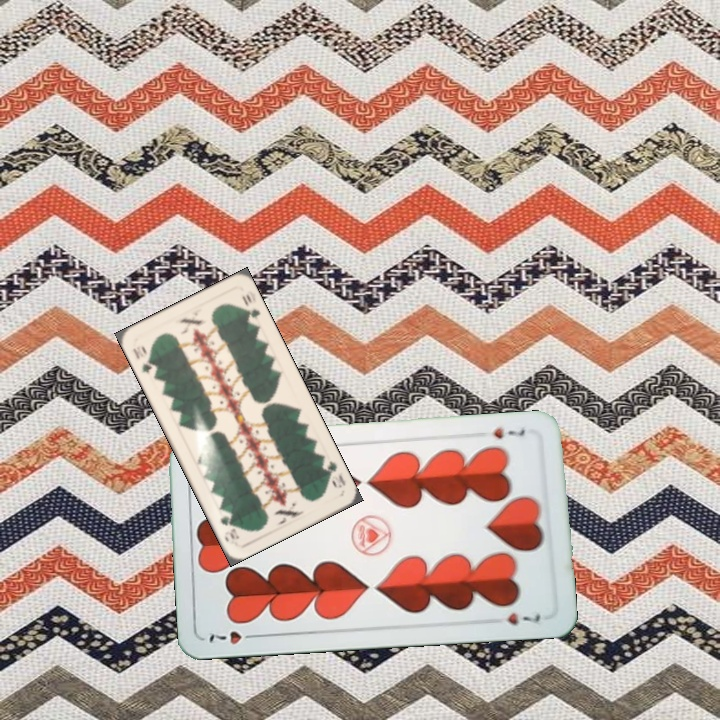G10: (321, 456, 348, 490), (128, 344, 155, 376)
H7: (204, 627, 262, 647), (489, 423, 528, 442)
